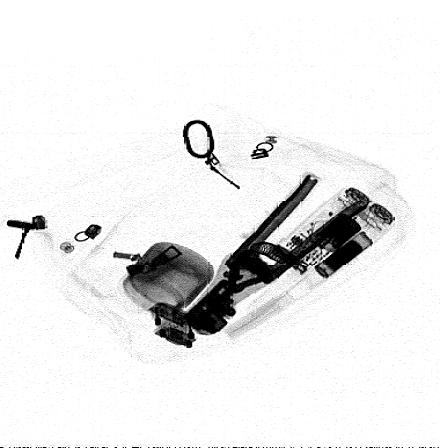Pliers: (182, 173, 368, 334)
